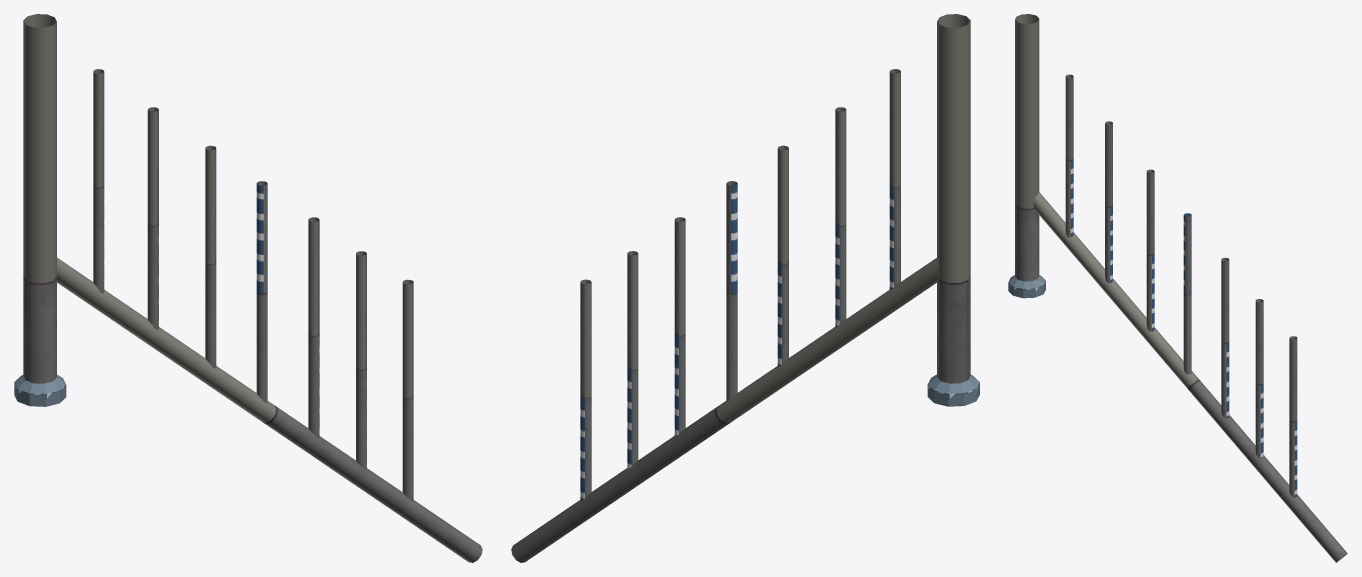
Rendered from stair_stick_04.fbx.
The picture shows the model from 3 angles, left to right: view 1: azimuth 30°, elevation 25°; view 2: azimuth 150°, elevation 25°; view 3: azimuth 330°, elevation 25°; orthographic projection. The views are drawn at different scales.
Parts seen in each view (by area): view 1: Object007; view 2: Object007; view 3: Object007.
Boxes of the visible parts, <box> form: Object007: <box>14,14,482,562</box>; Object007: <box>511,14,979,562</box>; Object007: <box>1008,14,1347,562</box>.
Bounding box in the file's own units: 136 × 182 × 12.69.
